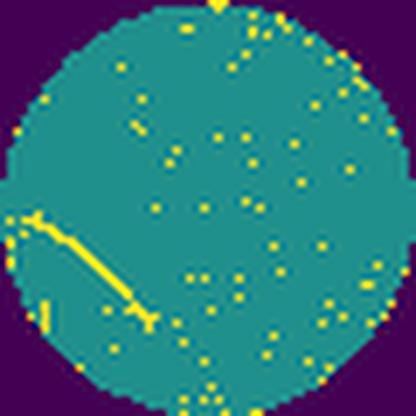Scratch: (16, 202, 163, 340)
